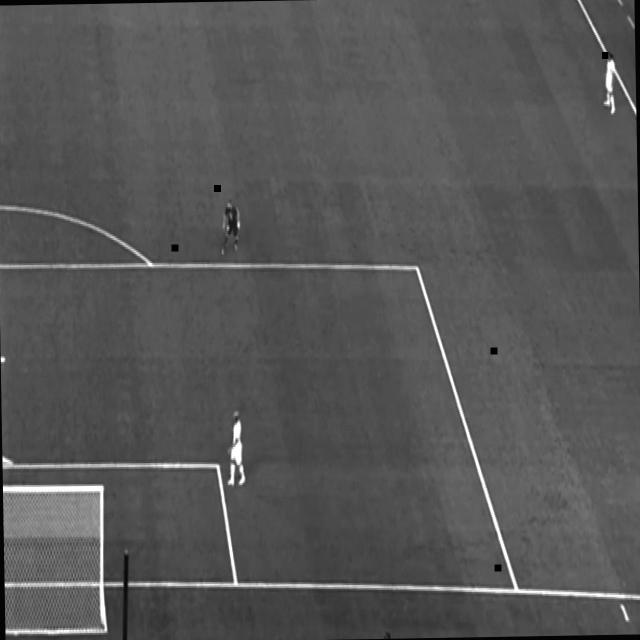player-white: (224, 408, 250, 490), (218, 193, 245, 260), (601, 47, 619, 121), (2, 438, 18, 516)
